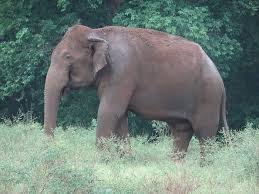Elephant: (41, 19, 232, 165)
